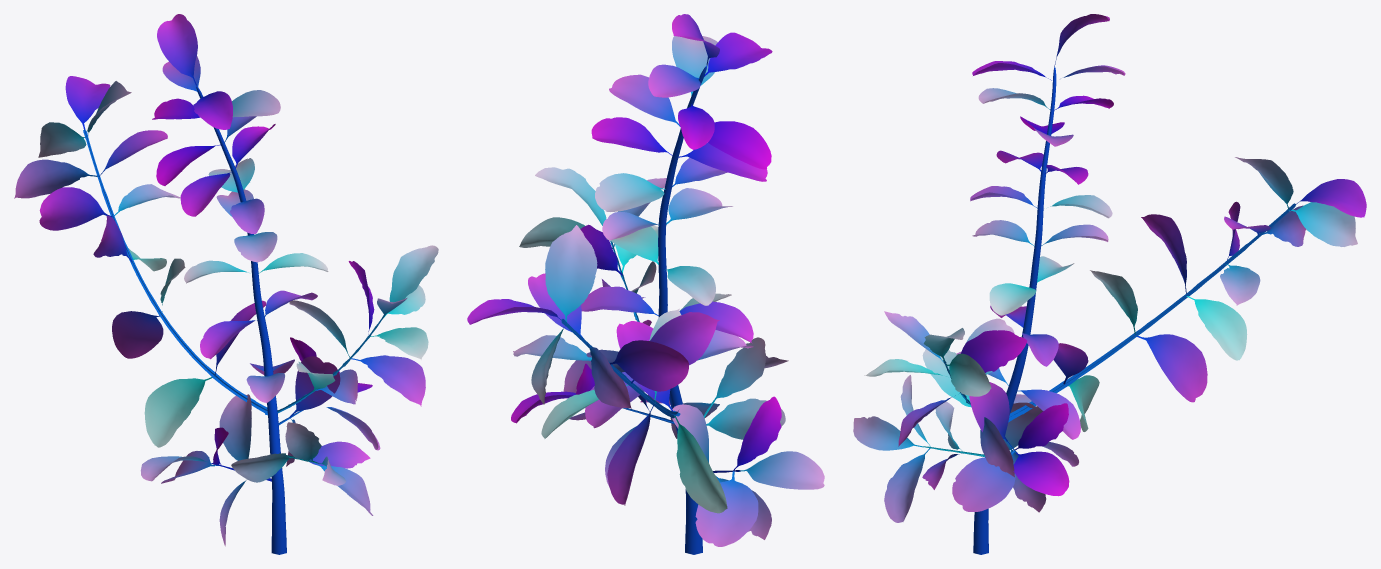
Rendered from European_Spindle_wk1ncbxja_Raw_wk1ncbxja_VarG_LOD0.fbx.
3 views of the same model, side by side, from view 1: azimuth 30°, elevation 25°; view 2: azimuth 150°, elevation 25°; view 3: azimuth 270°, elevation 25° (orthographic). The views are drawn at different scales.
Parts seen in each view (by area): view 1: _w9ne_VarG_High; view 2: _w9ne_VarG_High; view 3: _w9ne_VarG_High.
Boxes of the visible parts, bbox=[...] form: _w9ne_VarG_High: bbox=[14, 14, 438, 554]; _w9ne_VarG_High: bbox=[467, 14, 824, 554]; _w9ne_VarG_High: bbox=[853, 14, 1366, 554].
Bounding box in the file's own units: 33.46 × 60.12 × 54.1.
